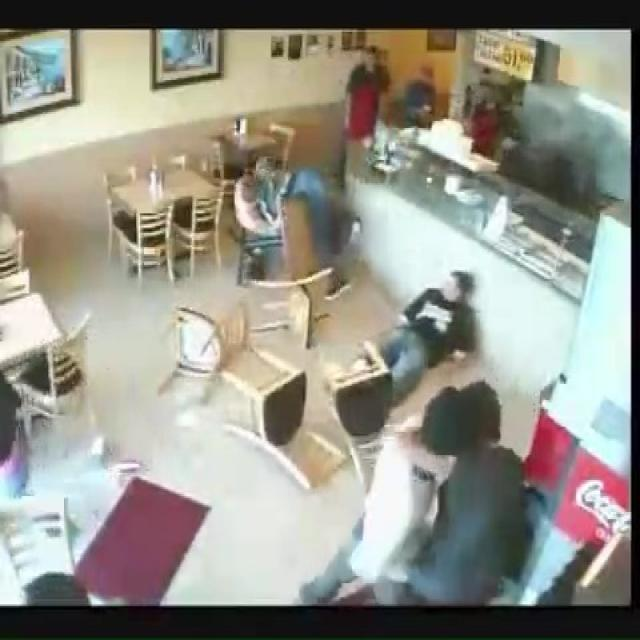fight: (310, 378, 534, 604), (235, 151, 366, 295)
